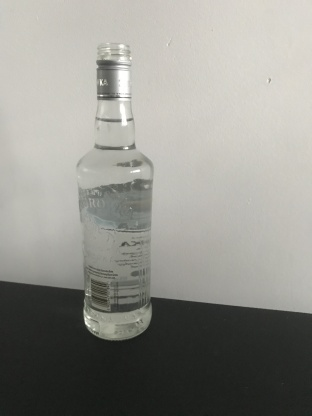nakretka: (94, 41, 133, 102)
